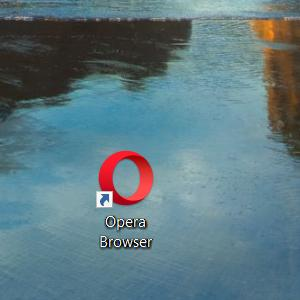opera: (96, 150, 154, 208)
